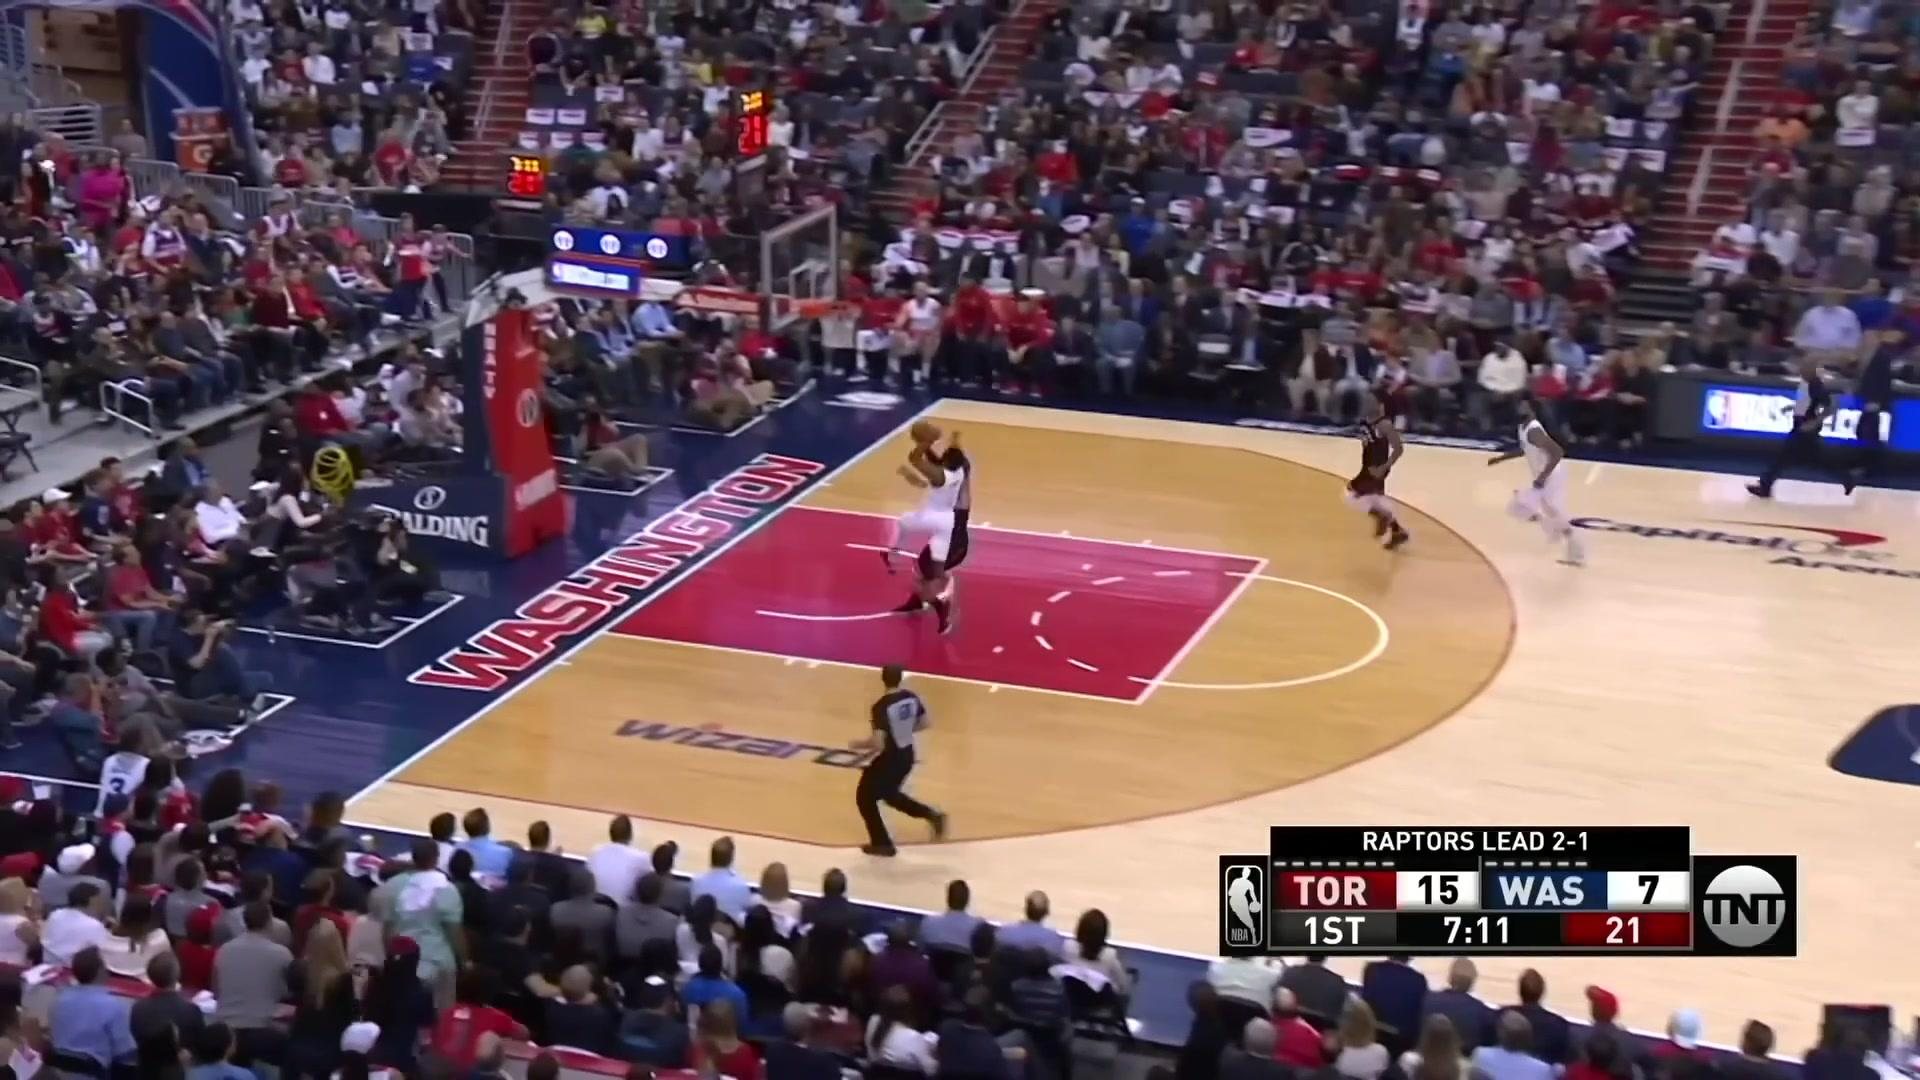foul: (861, 401, 994, 629)
